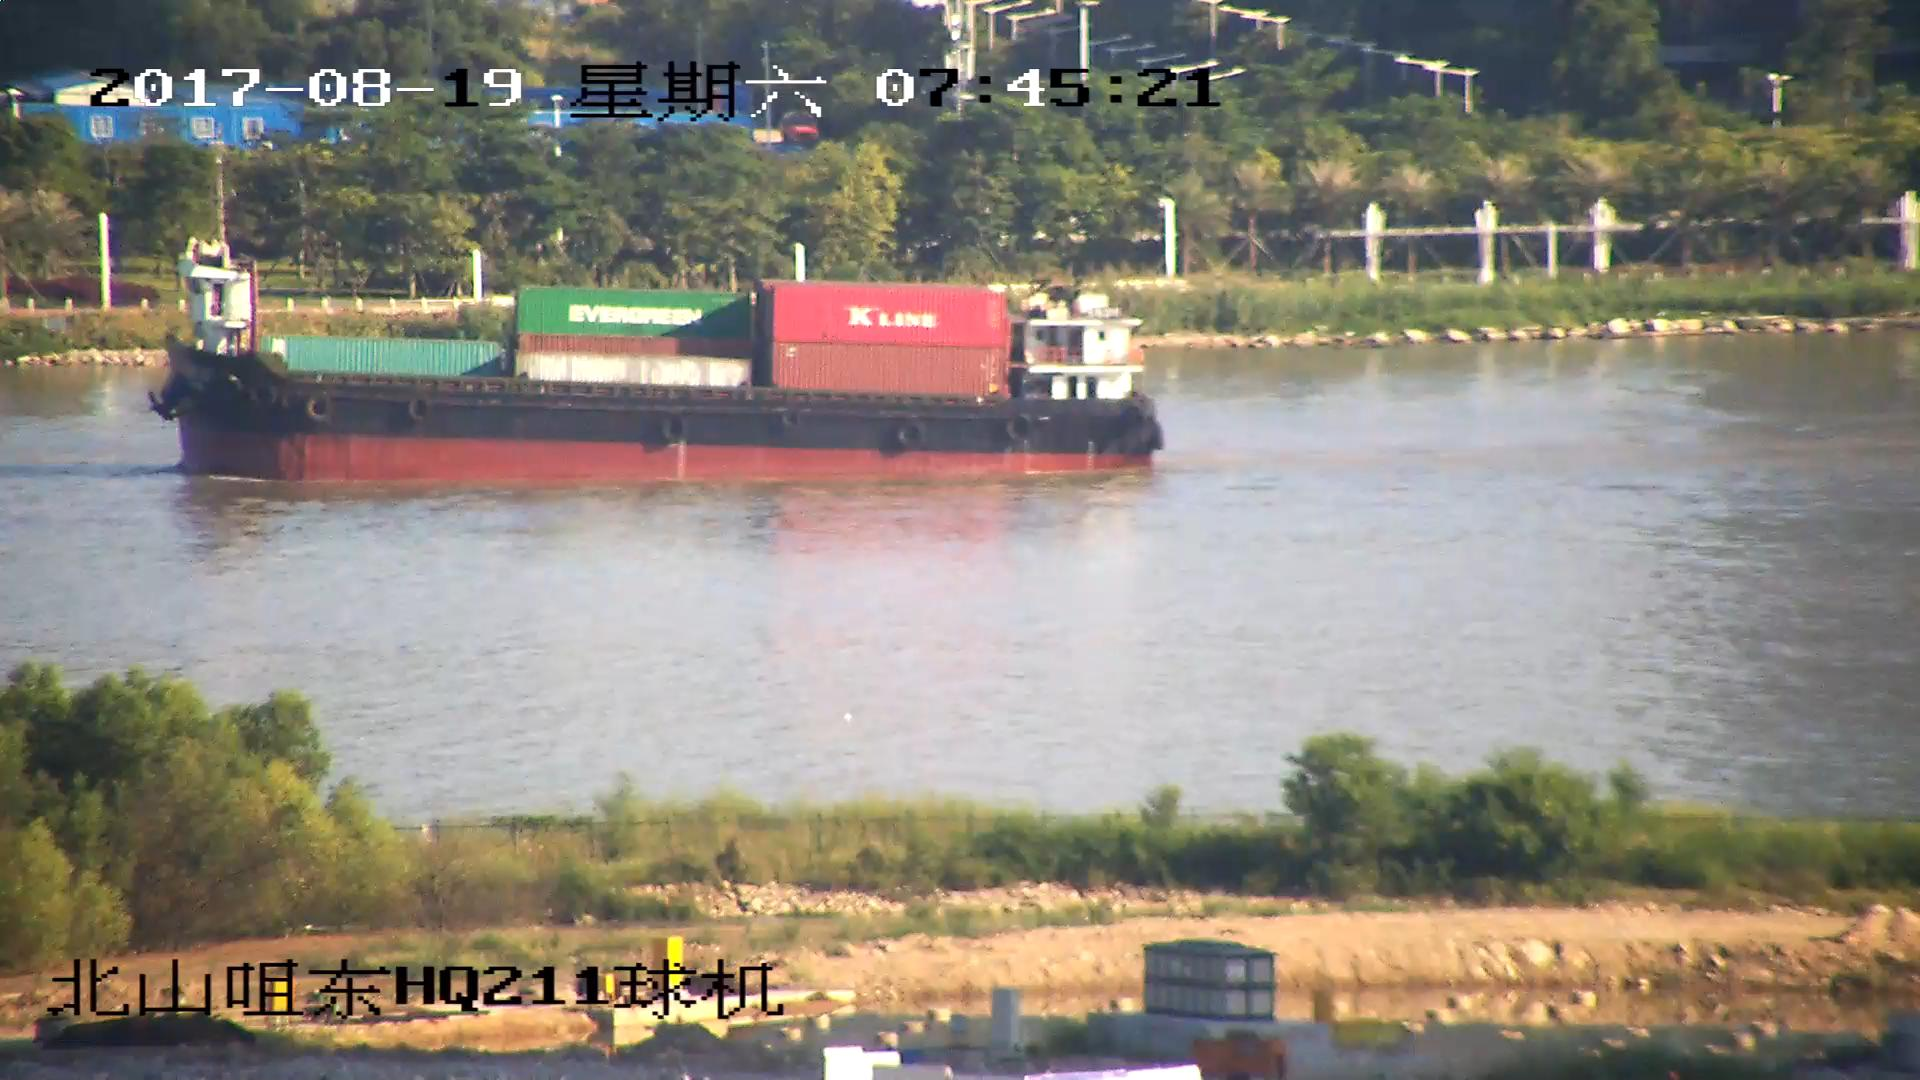container ship: (144, 167, 1174, 486)
